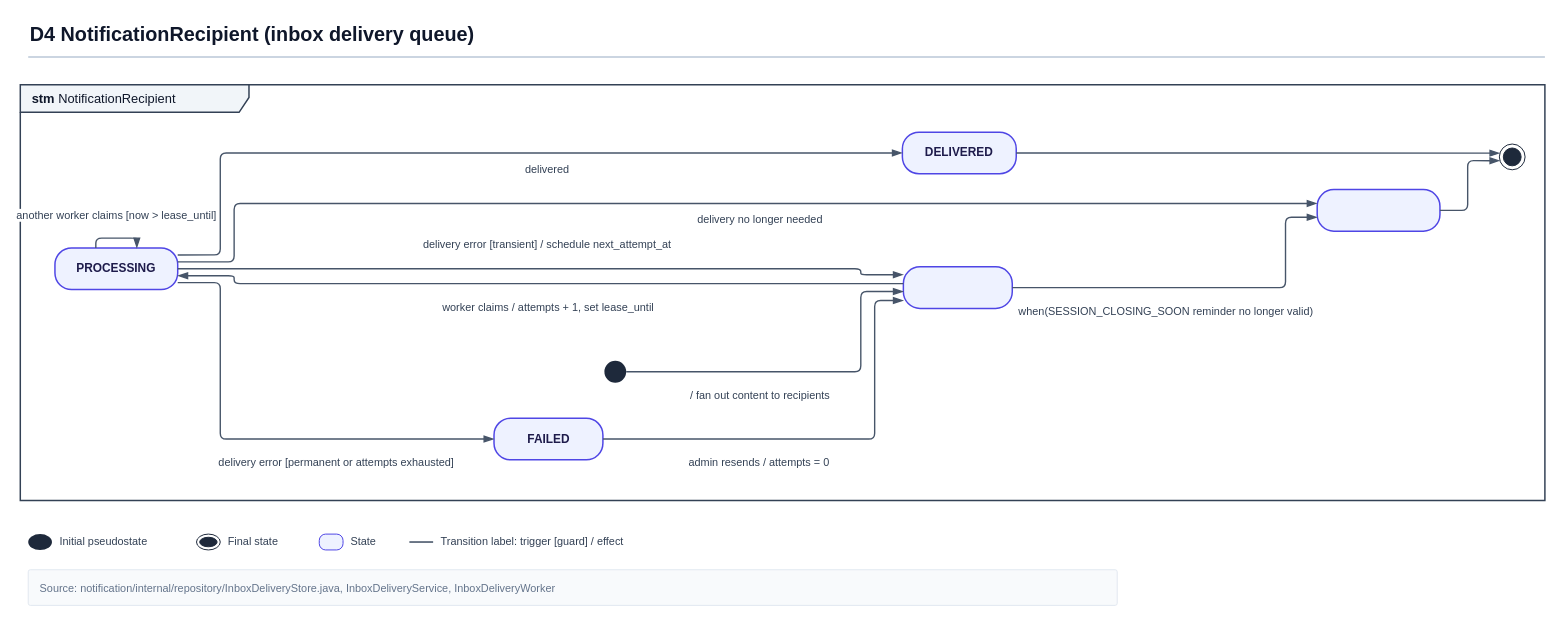
Some shapes in this 1563 by 623 pixel diagram are drawn without their labels. The centre of each missing label's shape, as x and y in pixels:
"PENDING" goes at pixel 957 287.
"SUPPRESSED" goes at pixel 1378 209.
